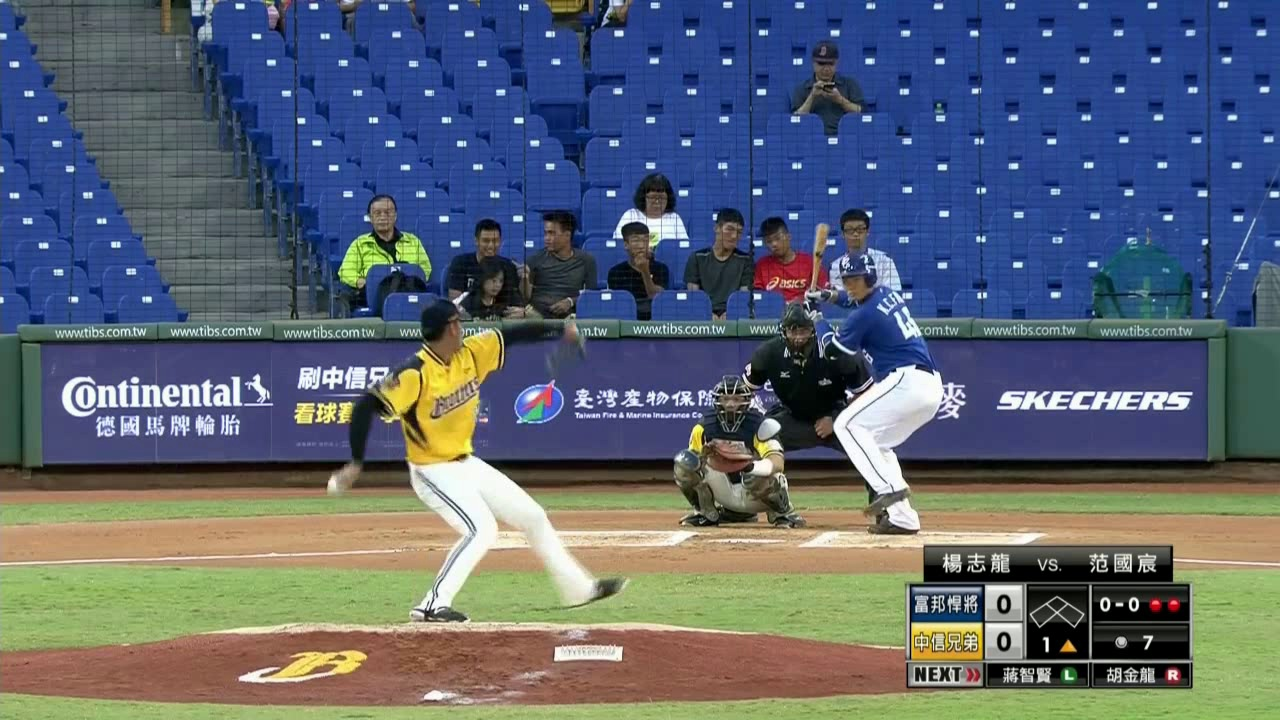ball: (325, 473, 347, 495)
base: (1028, 594, 1087, 628)
bat: (806, 214, 832, 297)
out: (1146, 596, 1182, 614)
score1: (985, 585, 1021, 620)
score2: (985, 623, 1022, 658)
session: (1034, 633, 1079, 655)
strikeball: (1096, 592, 1140, 613)
total: (1105, 628, 1168, 653)
